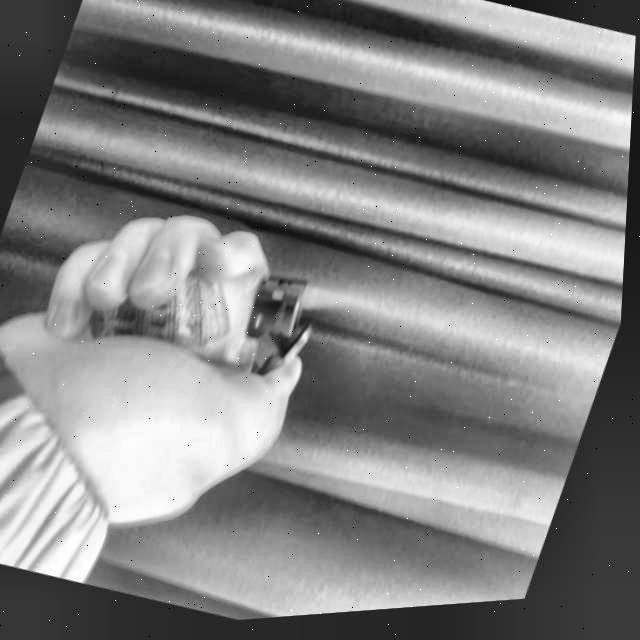Fire: (299, 282, 371, 331)
